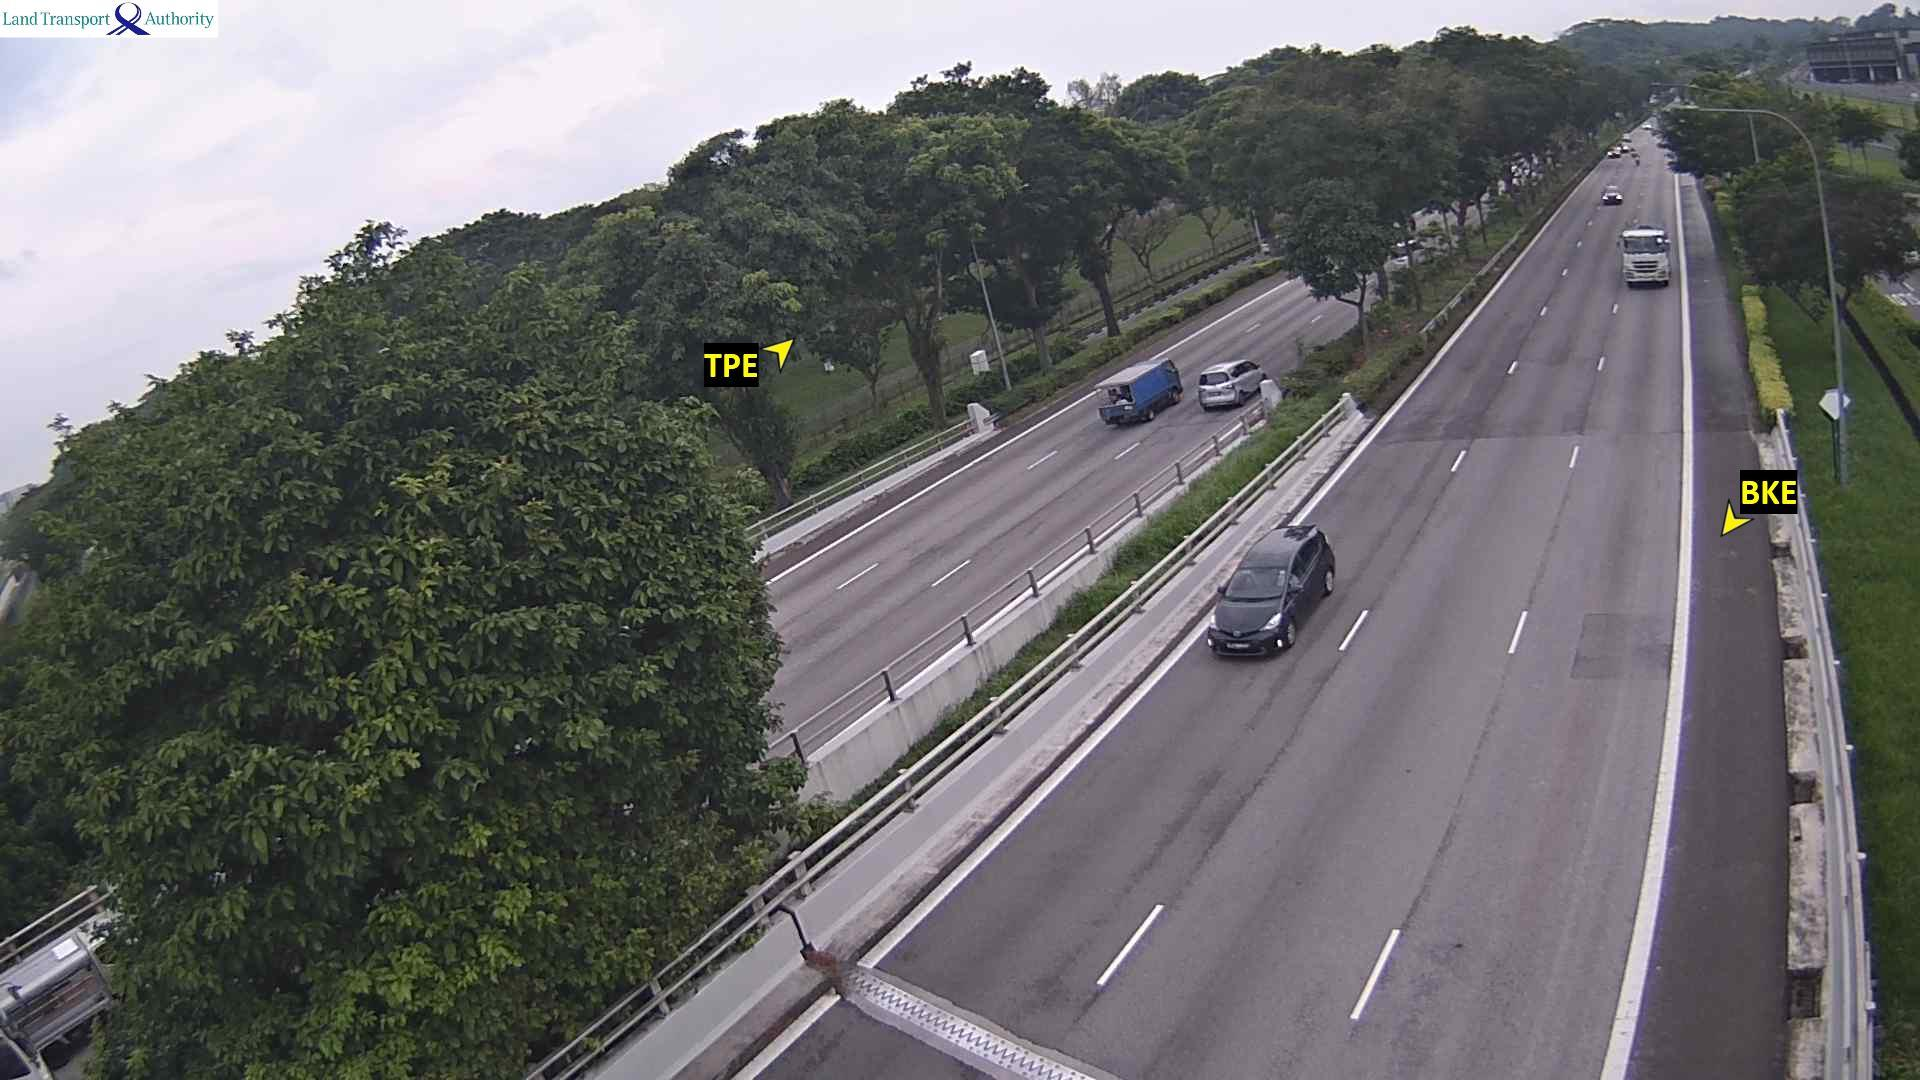cars: (1205, 521, 1335, 657), (1196, 357, 1265, 410), (1600, 185, 1623, 204), (1606, 142, 1622, 158), (1619, 135, 1634, 152)
trucks: (0, 881, 125, 1077), (1093, 357, 1182, 426), (1618, 223, 1671, 287)
